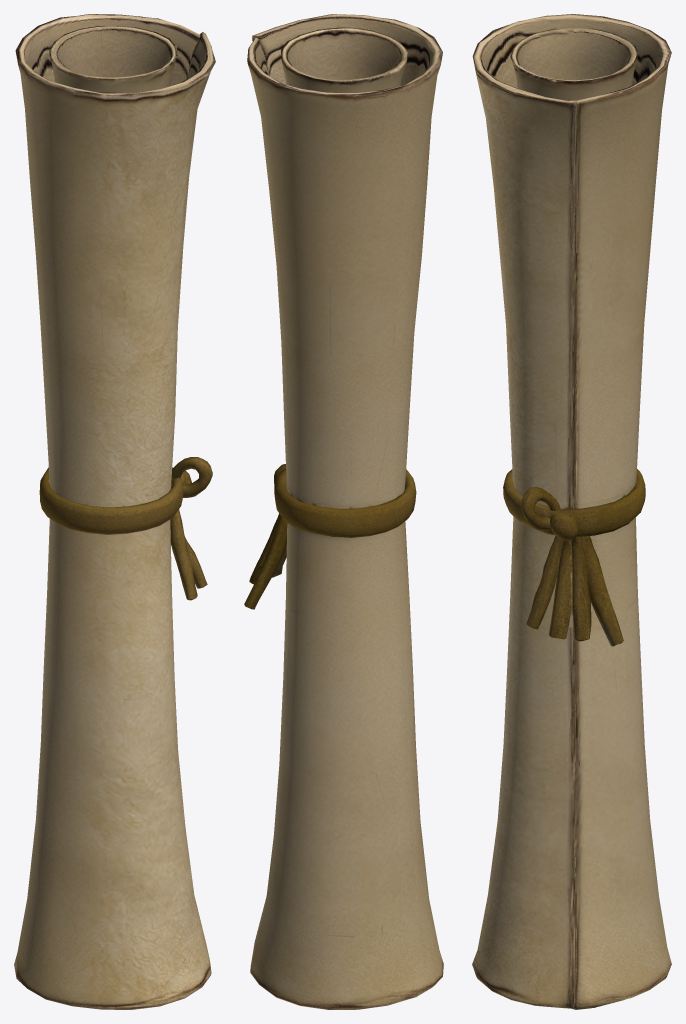
The model's file is pergament_v1.glb.
The picture shows the model from 3 angles, left to right: view 1: azimuth 30°, elevation 25°; view 2: azimuth 150°, elevation 25°; view 3: azimuth 270°, elevation 25°; orthographic projection.
Visible parts, largest first — view 1: mesh_node; view 2: mesh_node; view 3: mesh_node.
Part boxes in pixels (x1=…): mesh_node: x1=14, y1=14, x2=215, y2=1009; mesh_node: x1=244, y1=14, x2=443, y2=1009; mesh_node: x1=472, y1=14, x2=671, y2=1009.
Bounding box in the file's own units: 0.2061 × 1 × 0.1982.
Materials: 1 (1 with a texture image).
